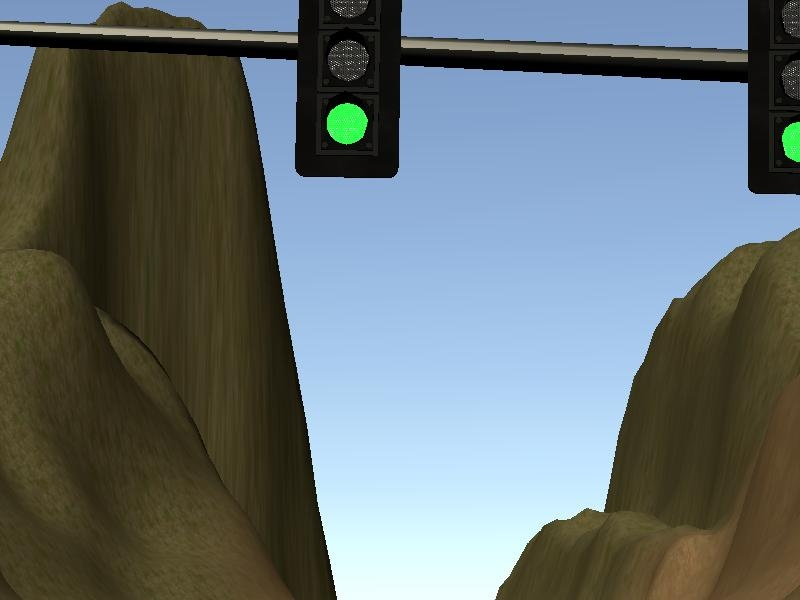green: (299, 1, 407, 186), (748, 4, 800, 197)
